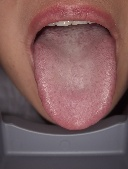tongue: (31, 31, 116, 132)
